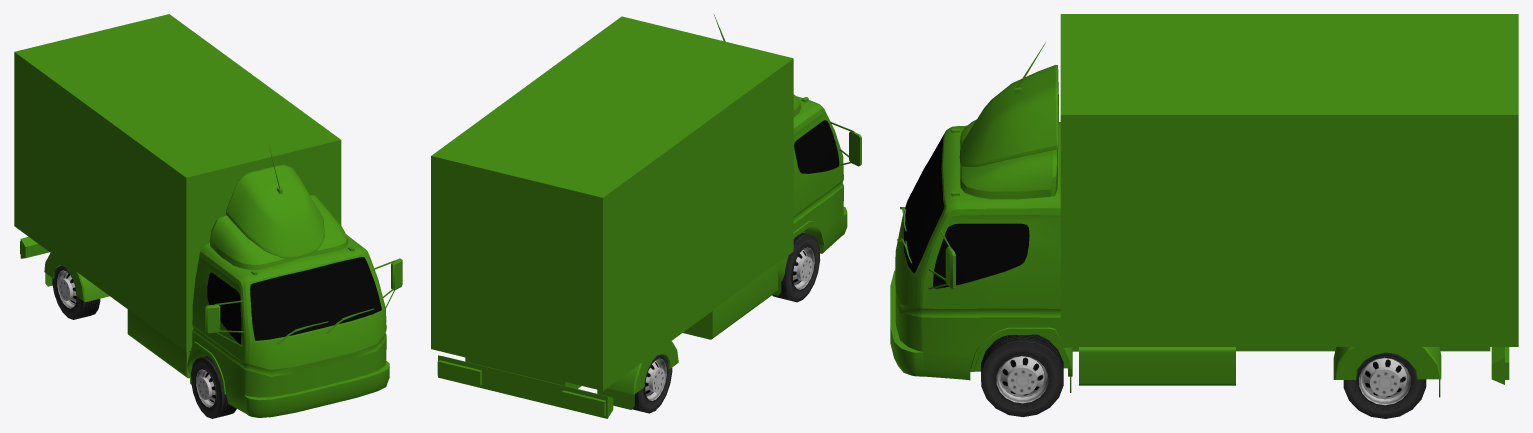
The model's file is Truck 8_n.fbx.
The picture shows the model from 3 angles, left to right: view 1: azimuth 30°, elevation 25°; view 2: azimuth 150°, elevation 25°; view 3: azimuth 270°, elevation 25°; orthographic projection. The views are drawn at different scales.
Parts seen in each view (by area): view 1: Body, Object001, Wheel_FR, Wheel_BR; view 2: Body, Object001, Wheel_FR, Wheel_BR, Object002; view 3: Body, Object001, Wheel_FL, Wheel_BL.
Boxes of the visible parts, x1=… form: Body: x1=14, y1=14, x2=402, y2=417; Object001: x1=189, y1=234, x2=386, y2=413; Wheel_FR: x1=191, y1=356, x2=236, y2=418; Wheel_BR: x1=52, y1=265, x2=100, y2=319; Body: x1=431, y1=14, x2=861, y2=418; Object001: x1=793, y1=96, x2=843, y2=253; Wheel_FR: x1=772, y1=232, x2=820, y2=302; Wheel_BR: x1=632, y1=354, x2=672, y2=413; Object002: x1=437, y1=361, x2=604, y2=416; Body: x1=890, y1=14, x2=1518, y2=397; Object001: x1=895, y1=122, x2=1069, y2=380; Wheel_FL: x1=981, y1=334, x2=1063, y2=416; Wheel_BL: x1=1343, y1=352, x2=1426, y2=418.
Size of the model in its own units: 79.98 by 95.74 by 166.
